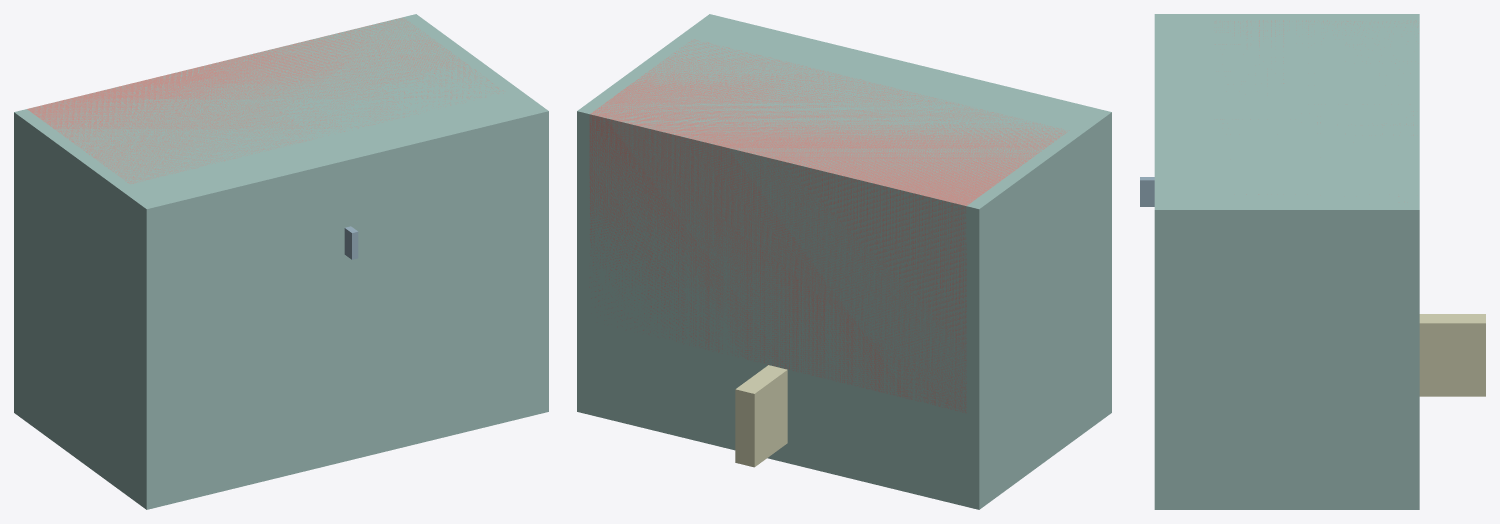
File: umbrella_bbox.glb
The picture shows the model from 3 angles, left to right: view 1: azimuth 30°, elevation 25°; view 2: azimuth 150°, elevation 25°; view 3: azimuth 270°, elevation 25°; orthographic projection.
Visible parts, largest first — view 1: world; view 2: world; view 3: world.
Boxes of the visible parts, left/top/right/bottom form: world: left=14, top=14, right=548, bottom=509; world: left=577, top=14, right=1111, bottom=509; world: left=1140, top=14, right=1485, bottom=509.
Size of the model in its own units: 1 by 0.7143 by 0.746.
